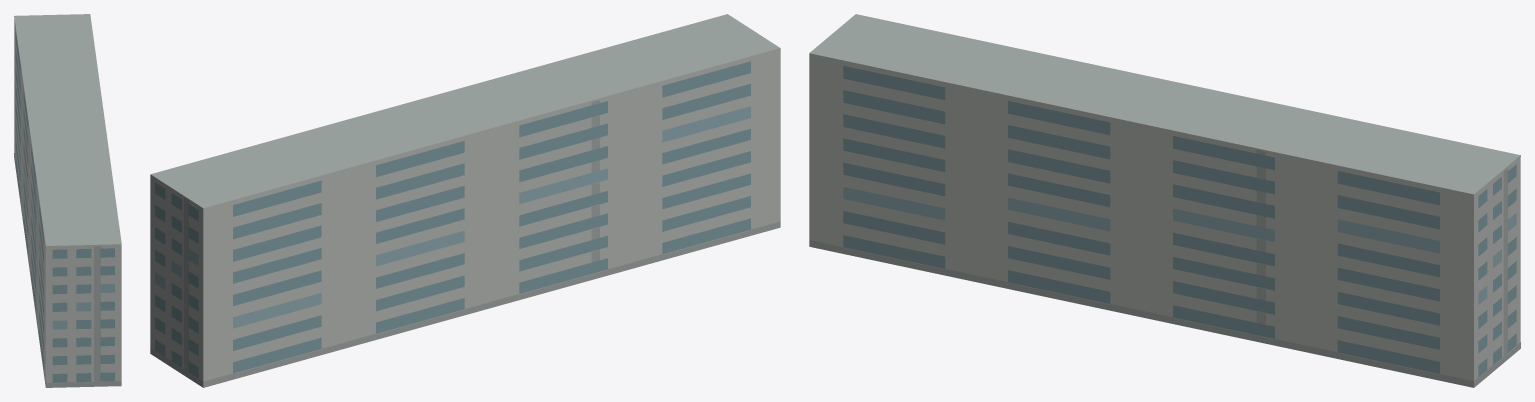
File: residential-c4ea7e79-09c7-46f6-b87a-a1e6570a4872.glb
The picture shows the model from 3 angles, left to right: view 1: azimuth 30°, elevation 25°; view 2: azimuth 150°, elevation 25°; view 3: azimuth 270°, elevation 25°; orthographic projection. The views are drawn at different scales.
Visible parts, largest first — view 1: residential-c4ea7e79-09c7-46f6-b87a-a1e6570a4872.tmp; view 2: residential-c4ea7e79-09c7-46f6-b87a-a1e6570a4872.tmp; view 3: residential-c4ea7e79-09c7-46f6-b87a-a1e6570a4872.tmp.
Part boxes in pixels (x1,y1,x2,y2): residential-c4ea7e79-09c7-46f6-b87a-a1e6570a4872.tmp: [14, 14, 121, 387]; residential-c4ea7e79-09c7-46f6-b87a-a1e6570a4872.tmp: [150, 14, 780, 387]; residential-c4ea7e79-09c7-46f6-b87a-a1e6570a4872.tmp: [809, 14, 1520, 387].
Size of the model in its own units: 48.81 by 24.4 by 81.33.
